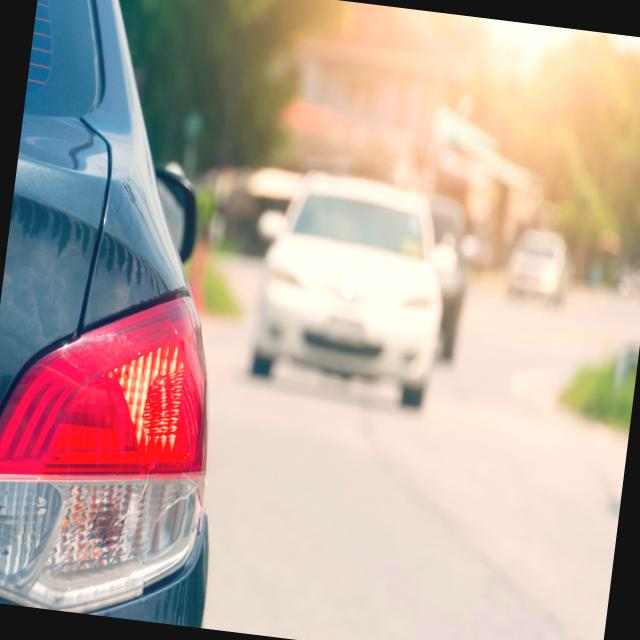Phare abime: (92, 419, 210, 594)
